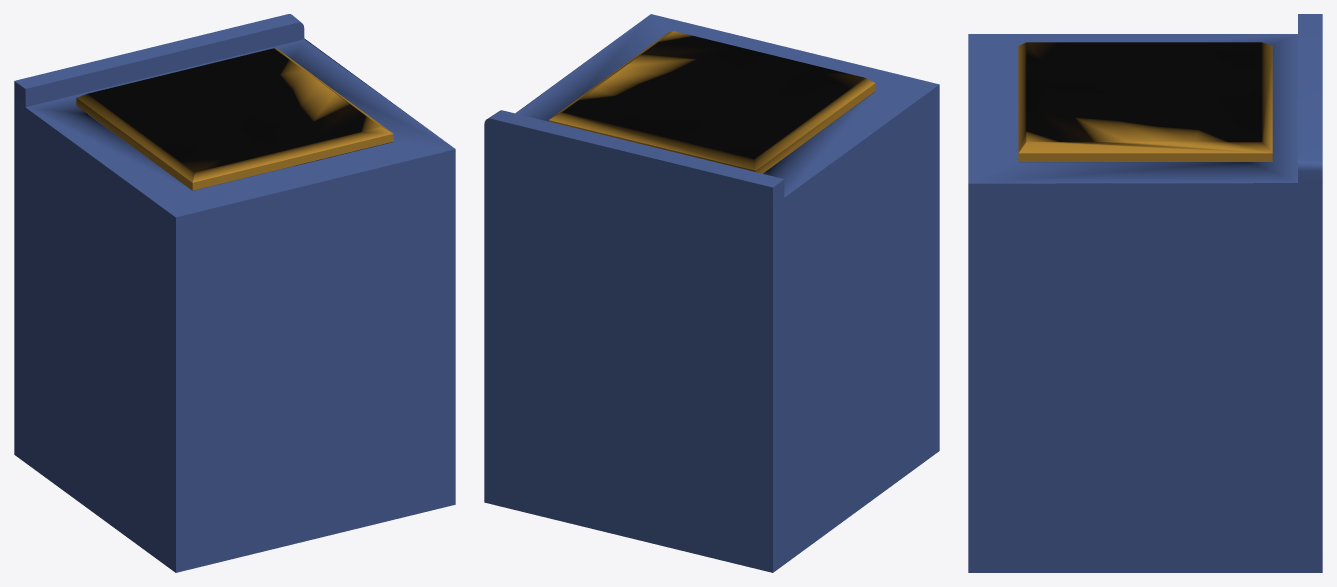
The model's file is Bancada de Bacon.fbx.
3 views of the same model, side by side, from view 1: azimuth 30°, elevation 25°; view 2: azimuth 150°, elevation 25°; view 3: azimuth 270°, elevation 25° (orthographic). The views are drawn at different scales.
Parts seen in each view (by area): view 1: Bancada de alimentos.002, Bancada de alimentos.001; view 2: Bancada de alimentos.002, Bancada de alimentos.001; view 3: Bancada de alimentos.002, Bancada de alimentos.001.
Part boxes in pixels (left/top/right/bottom): Bancada de alimentos.002: left=14, top=14, right=455, bottom=572; Bancada de alimentos.001: left=76, top=48, right=393, bottom=190; Bancada de alimentos.002: left=484, top=14, right=939, bottom=572; Bancada de alimentos.001: left=548, top=31, right=875, bottom=173; Bancada de alimentos.002: left=968, top=14, right=1322, bottom=572; Bancada de alimentos.001: left=1018, top=42, right=1272, bottom=161.
Size of the model in its own units: 224 by 285 by 224.
